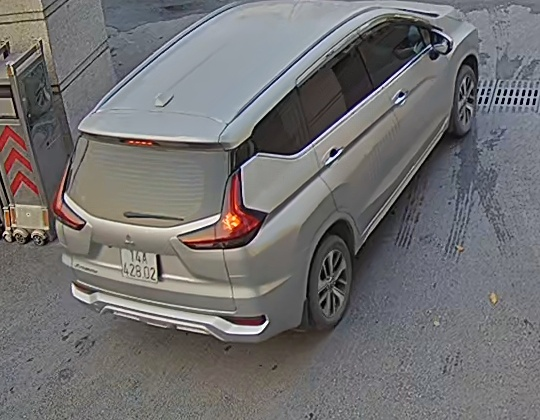vehicle plate: (118, 242, 159, 285)
